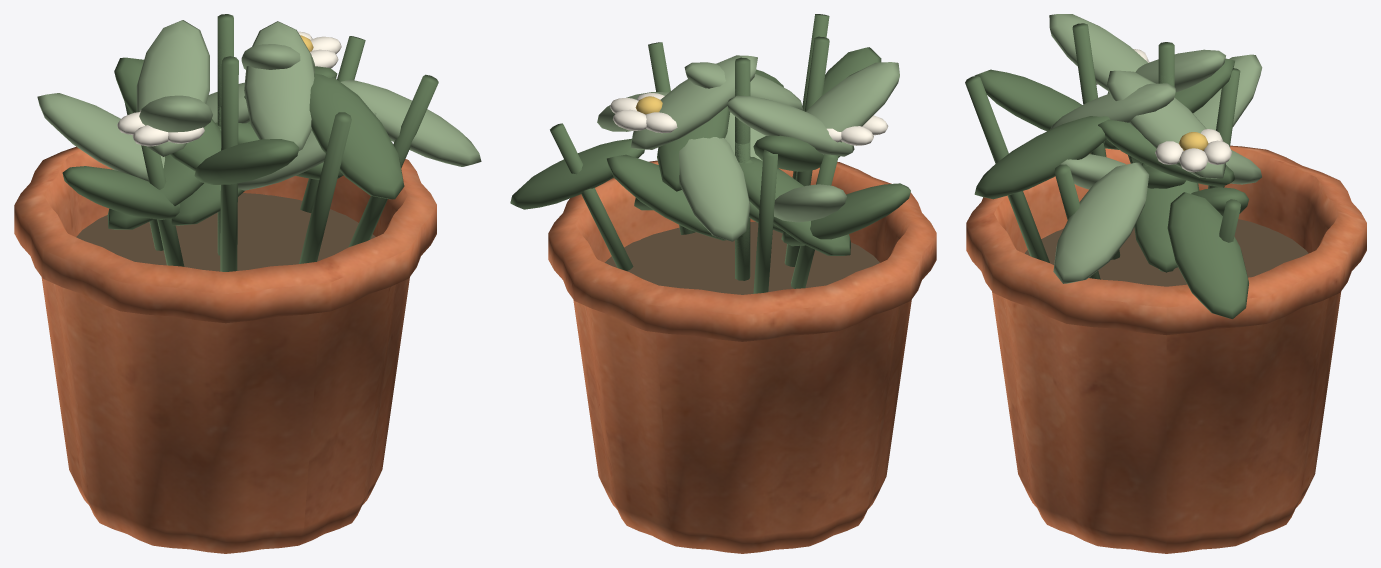
Rendered from pot_fluted.glb.
3 views of the same model, side by side, from view 1: azimuth 30°, elevation 25°; view 2: azimuth 150°, elevation 25°; view 3: azimuth 270°, elevation 25° (orthographic). The views are drawn at different scales.
Visible parts, largest first — view 1: Thrown terracotta pot, Soil inside rim, Broad opaque leaf.042, Broad opaque leaf.052, Broad opaque leaf.043, Broad opaque leaf.039, Broad opaque leaf.048, Broad opaque leaf.045, Broad opaque leaf.041, Plant stem.026, Plant stem.021, Plant stem.024 (+12 smaller); view 2: Thrown terracotta pot, Soil inside rim, Broad opaque leaf.040, Broad opaque leaf, Broad opaque leaf.044, Broad opaque leaf.051, Broad opaque leaf.043, Broad opaque leaf.053, Broad opaque leaf.045, Broad opaque leaf.037, Plant stem.020, Plant stem (+14 smaller); view 3: Thrown terracotta pot, Broad opaque leaf.048, Broad opaque leaf, Broad opaque leaf.042, Soil inside rim, Broad opaque leaf.044, Broad opaque leaf.041, Broad opaque leaf.051, Broad opaque leaf.038, Plant stem.021, Broad opaque leaf.052, Broad opaque leaf.050 (+15 smaller).
Boxes of the visible parts, <box> form: Thrown terracotta pot: <box>14,146,436,553</box>; Soil inside rim: <box>76,193,375,271</box>; Broad opaque leaf.042: <box>309,73,404,199</box>; Broad opaque leaf.052: <box>244,21,314,150</box>; Broad opaque leaf.043: <box>136,20,209,156</box>; Broad opaque leaf.039: <box>37,93,164,181</box>; Broad opaque leaf.048: <box>340,79,481,166</box>; Broad opaque leaf.045: <box>62,166,179,219</box>; Broad opaque leaf.041: <box>194,139,299,184</box>; Plant stem.026: <box>220,56,238,271</box>; Plant stem.021: <box>299,112,351,263</box>; Plant stem.024: <box>348,74,438,247</box>; Thrown terracotta pot: <box>548,160,936,553</box>; Soil inside rim: <box>605,222,879,294</box>; Broad opaque leaf.040: <box>678,137,750,241</box>; Broad opaque leaf: <box>510,138,644,209</box>; Broad opaque leaf.044: <box>630,55,757,149</box>; Broad opaque leaf.051: <box>806,62,899,142</box>; Broad opaque leaf.043: <box>727,95,854,156</box>; Broad opaque leaf.053: <box>607,154,742,240</box>; Broad opaque leaf.045: <box>781,183,910,246</box>; Broad opaque leaf.037: <box>739,156,850,255</box>; Plant stem.020: <box>753,149,777,293</box>; Plant stem: <box>550,123,633,270</box>; Thrown terracotta pot: <box>966,145,1366,553</box>; Broad opaque leaf.048: <box>1053,162,1148,283</box>; Broad opaque leaf: <box>1167,192,1248,318</box>; Broad opaque leaf.042: <box>974,116,1110,199</box>; Soil inside rim: <box>1025,219,1308,286</box>; Broad opaque leaf.044: <box>1107,70,1226,178</box>; Broad opaque leaf.041: <box>974,69,1104,143</box>; Broad opaque leaf.051: <box>1049,14,1147,90</box>; Broad opaque leaf.038: <box>1134,163,1199,272</box>; Plant stem.021: <box>965,75,1049,262</box>; Broad opaque leaf.052: <box>1050,83,1175,129</box>; Broad opaque leaf.050: <box>1098,119,1235,186</box>.
Bounding box in the file's own units: 0.6493 × 0.7368 × 0.5946.
6 materials, 1 textured.
